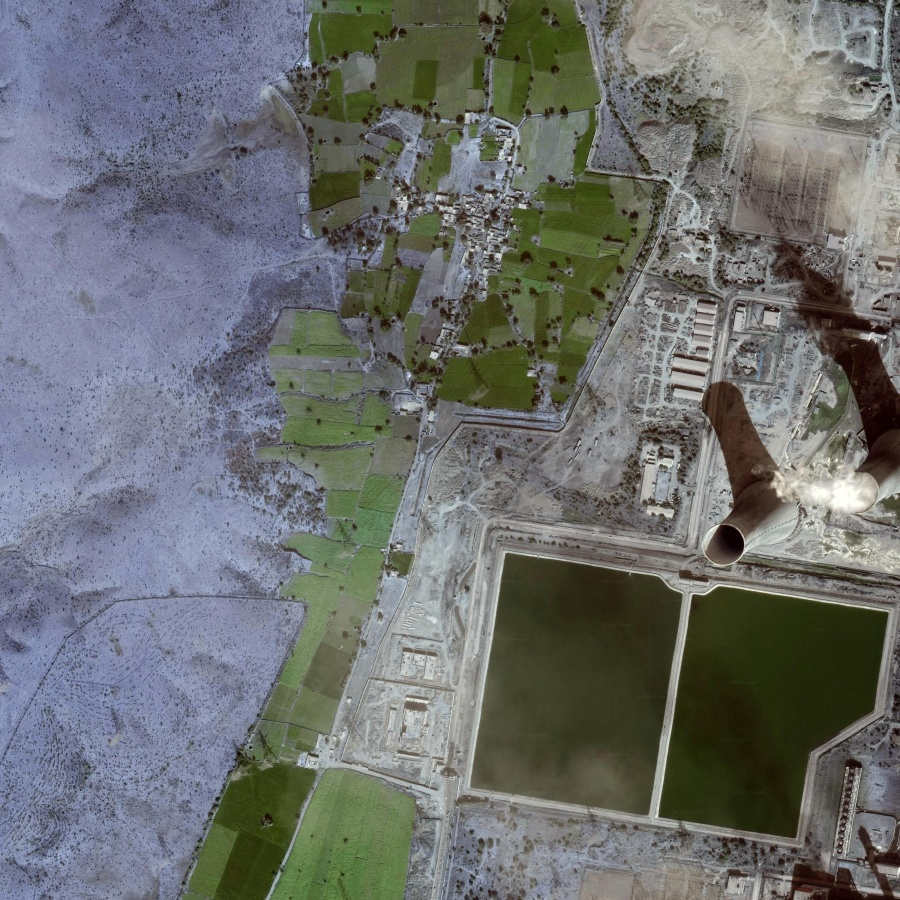PowerPlant: (457, 548, 896, 856)
